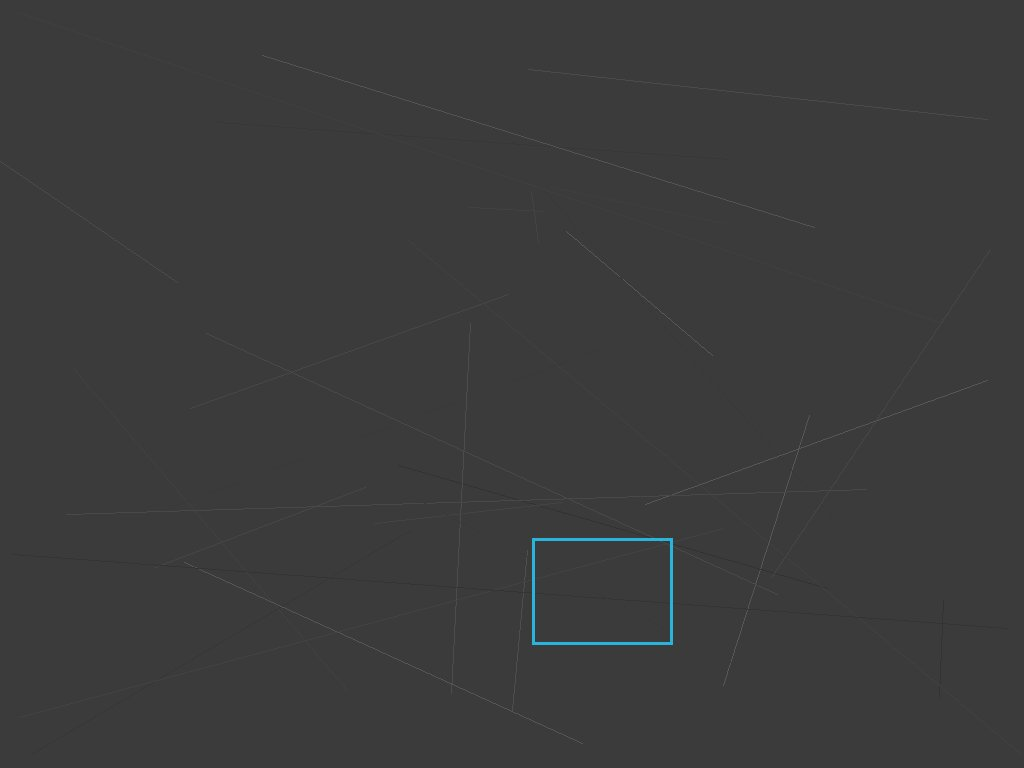D10: (532, 538, 672, 644)
